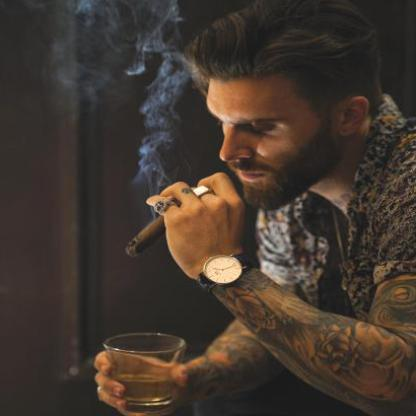cigarette: (126, 216, 164, 258)
person: (186, 0, 415, 415)
smoke: (126, 3, 189, 84), (134, 92, 177, 181), (69, 0, 129, 37)
